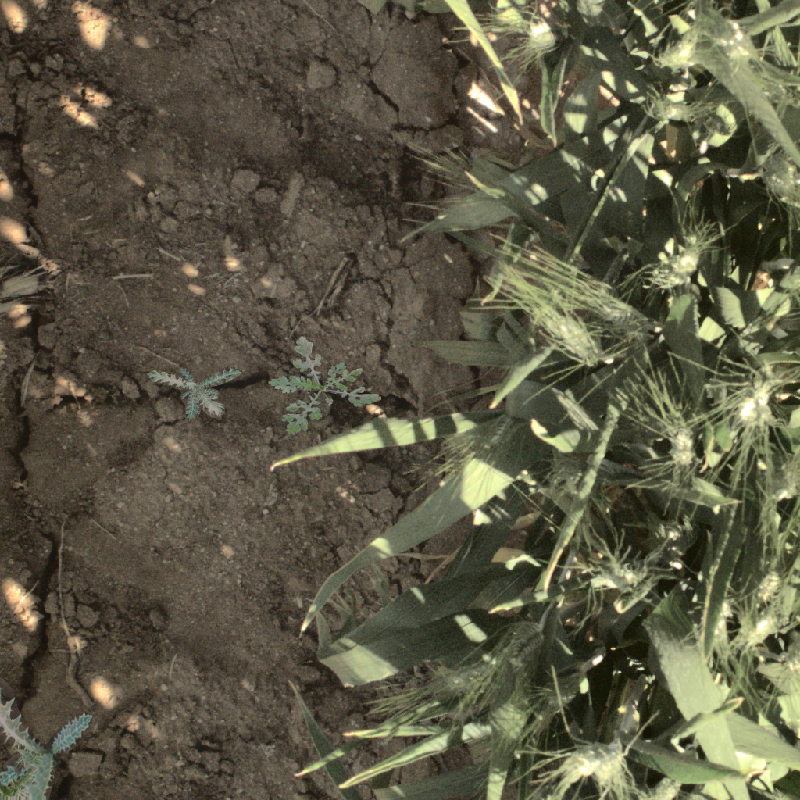spikelet: (719, 69, 800, 169), (538, 271, 643, 328), (534, 304, 605, 372), (650, 228, 710, 289), (565, 739, 625, 782), (442, 655, 497, 694), (733, 377, 774, 427), (589, 556, 643, 593), (666, 425, 697, 467), (753, 568, 782, 604)
weed: (1, 676, 95, 800), (268, 336, 381, 435), (147, 367, 242, 421)
